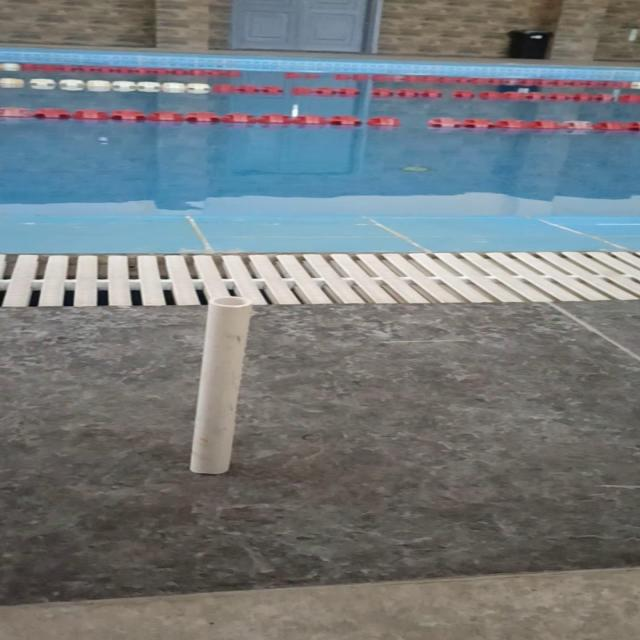Cube: (188, 294, 254, 474)
